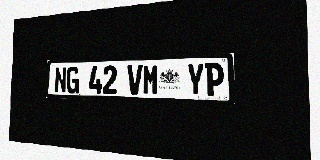2: (103, 65, 117, 94)
4: (89, 66, 103, 94)
G: (66, 66, 79, 93)
M: (143, 64, 159, 95)
N: (54, 67, 67, 93)
P: (205, 63, 224, 96)
V: (127, 65, 142, 95)
Y: (186, 63, 204, 96)
